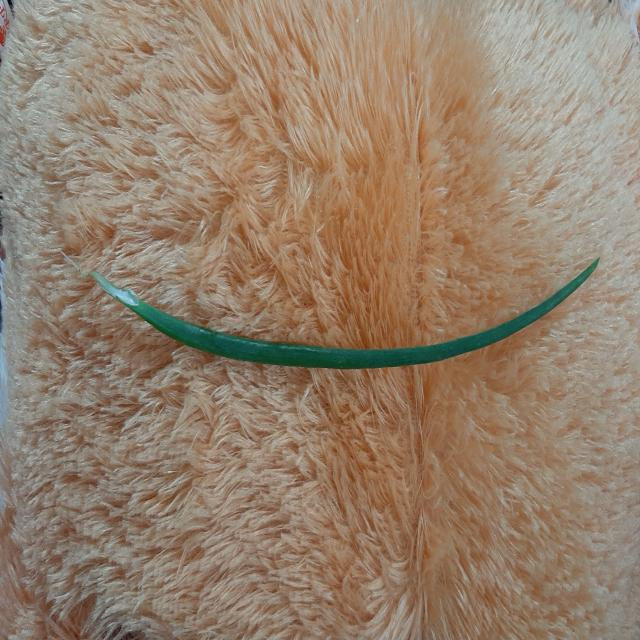onion: (65, 255, 599, 369)
